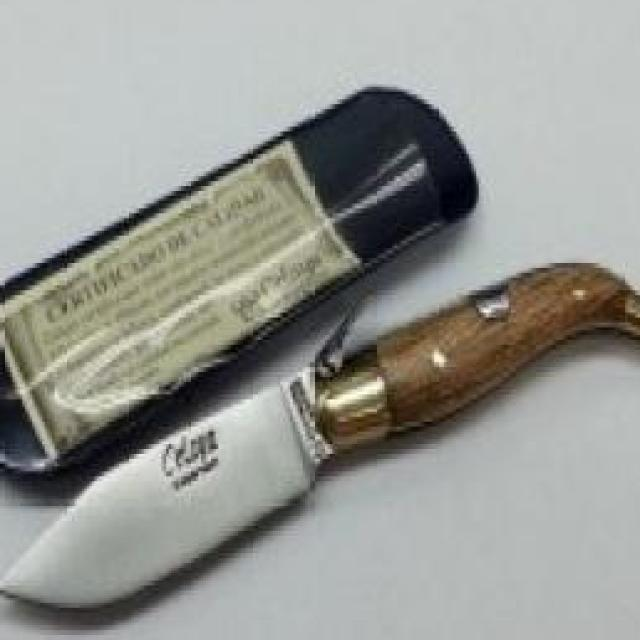knife: (0, 332, 375, 618)
